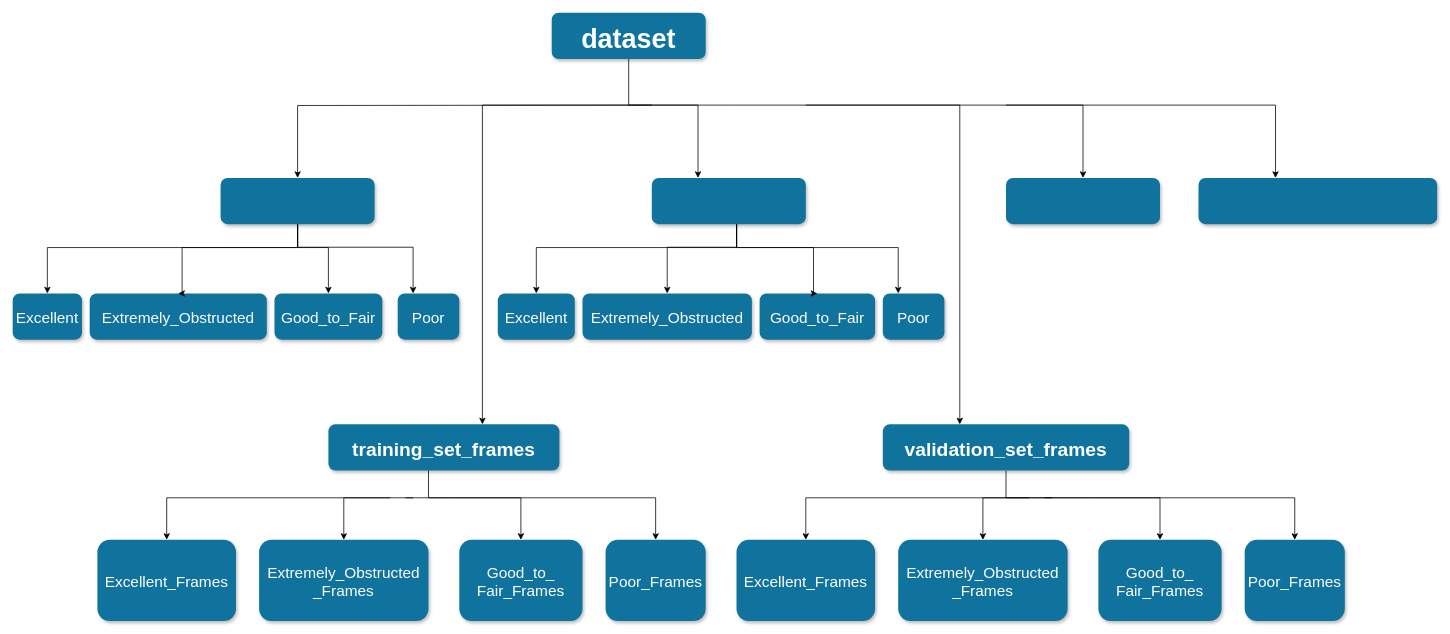
Image size: 1450x634. Some labels were removed from this diagram. The shapes that lost their labels are listed below. From the top down, each one's centre as x and y in pixels, then its label:
At point (298, 201): "training_set".
At point (729, 201): "validation_set".
At point (1083, 201): "testing_set".
At point (1318, 201): "testing_set_frames".
